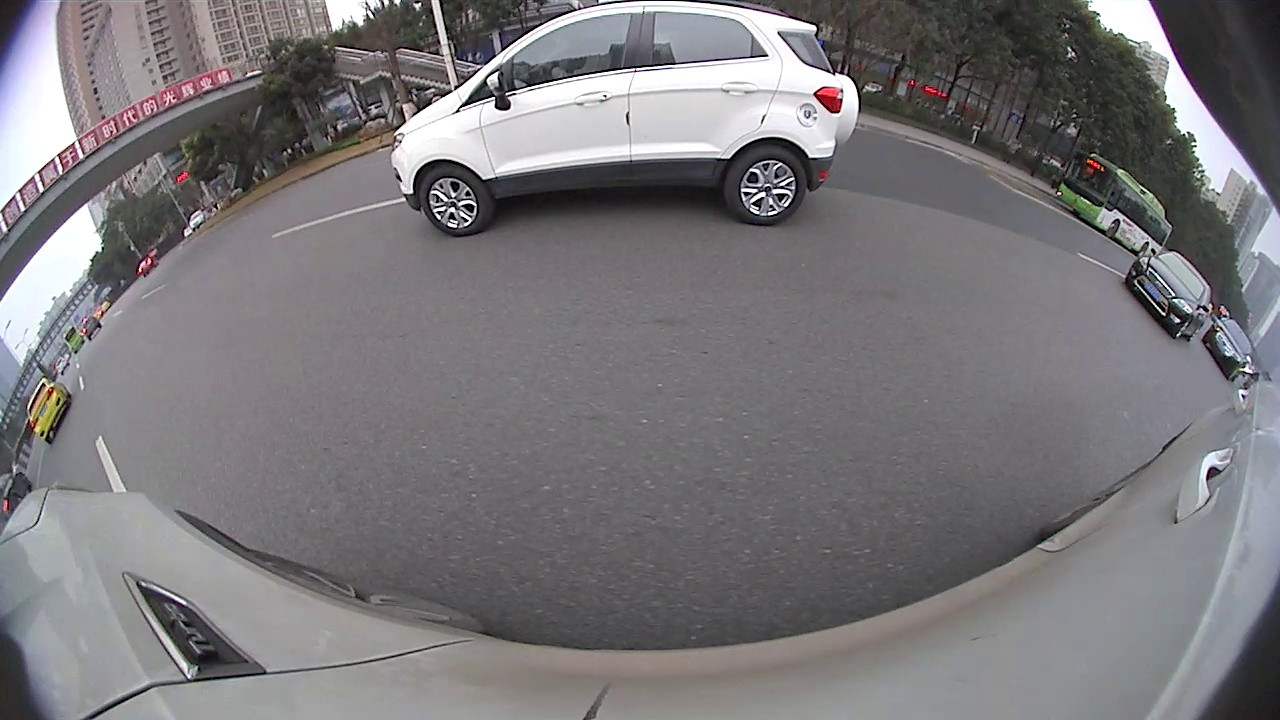bus: (1056, 149, 1174, 256)
car: (390, 1, 860, 238), (1125, 251, 1211, 342), (24, 378, 73, 446), (1203, 317, 1254, 382)
front: (416, 165, 490, 234), (1107, 219, 1122, 238)
rear: (726, 142, 807, 225)
